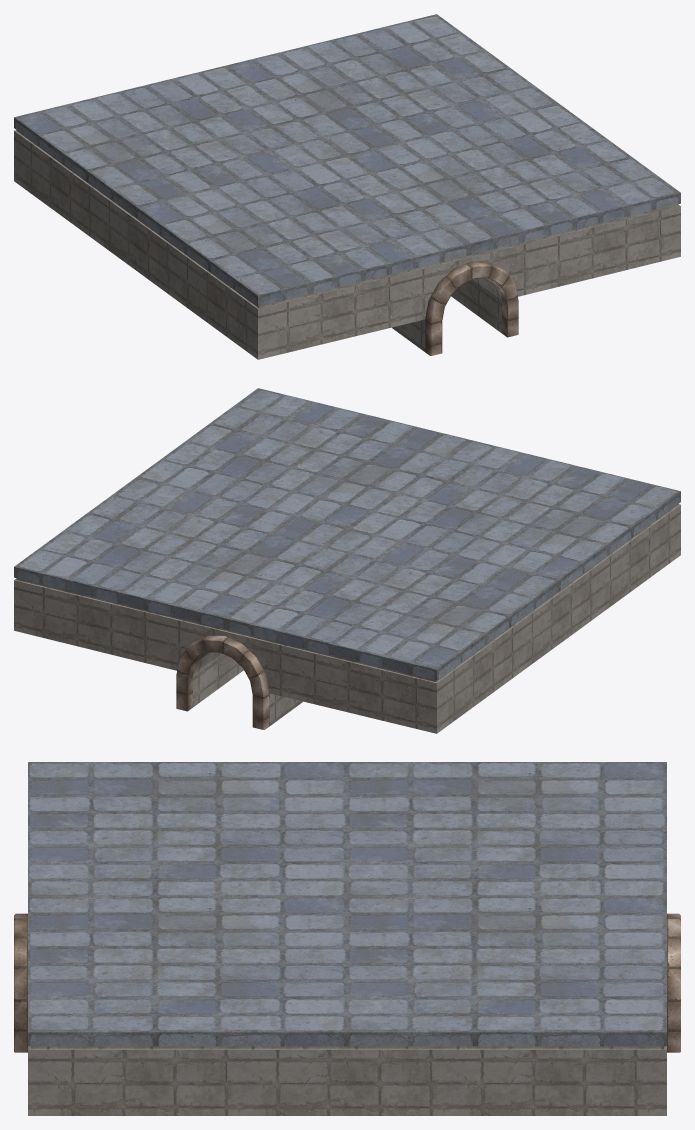
File: SewerSet2_25mV1.fbx
3 views of the same model, one above another, from view 1: azimuth 30°, elevation 25°; view 2: azimuth 150°, elevation 25°; view 3: azimuth 270°, elevation 25° (orthographic). The views are drawn at different scales.
Parts seen in each view (by area): view 1: Object001; view 2: Object001; view 3: Object001.
Boxes of the visible parts, x1,y1,x2,y2 form: Object001: (14, 14, 680, 359); Object001: (14, 388, 680, 733); Object001: (14, 762, 680, 1115).
Bounding box in the file's own units: 2500 × 549 × 2609.
